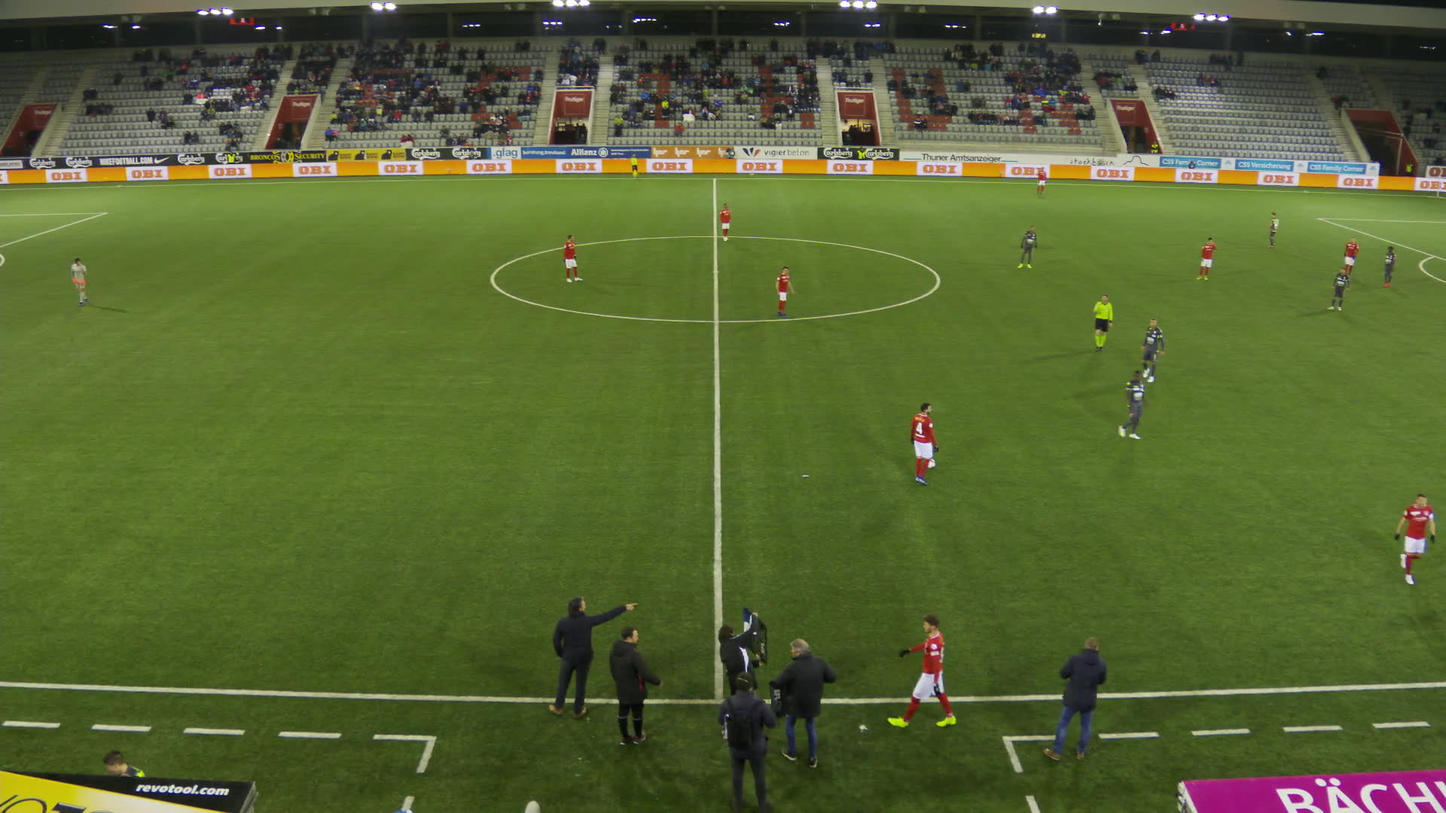ball: (926, 457, 936, 469)
player: (895, 614, 956, 731), (1390, 491, 1437, 583), (909, 401, 938, 485), (1112, 370, 1142, 440), (1138, 316, 1164, 382), (99, 749, 146, 779), (1325, 265, 1349, 310), (560, 233, 581, 282), (1015, 225, 1037, 269), (69, 257, 88, 306), (1194, 236, 1215, 280), (772, 265, 790, 315), (1341, 236, 1357, 277), (1380, 245, 1396, 286), (717, 202, 730, 242), (1266, 211, 1278, 246), (1034, 166, 1045, 196)
referee: (1091, 294, 1111, 353), (628, 153, 637, 178)
